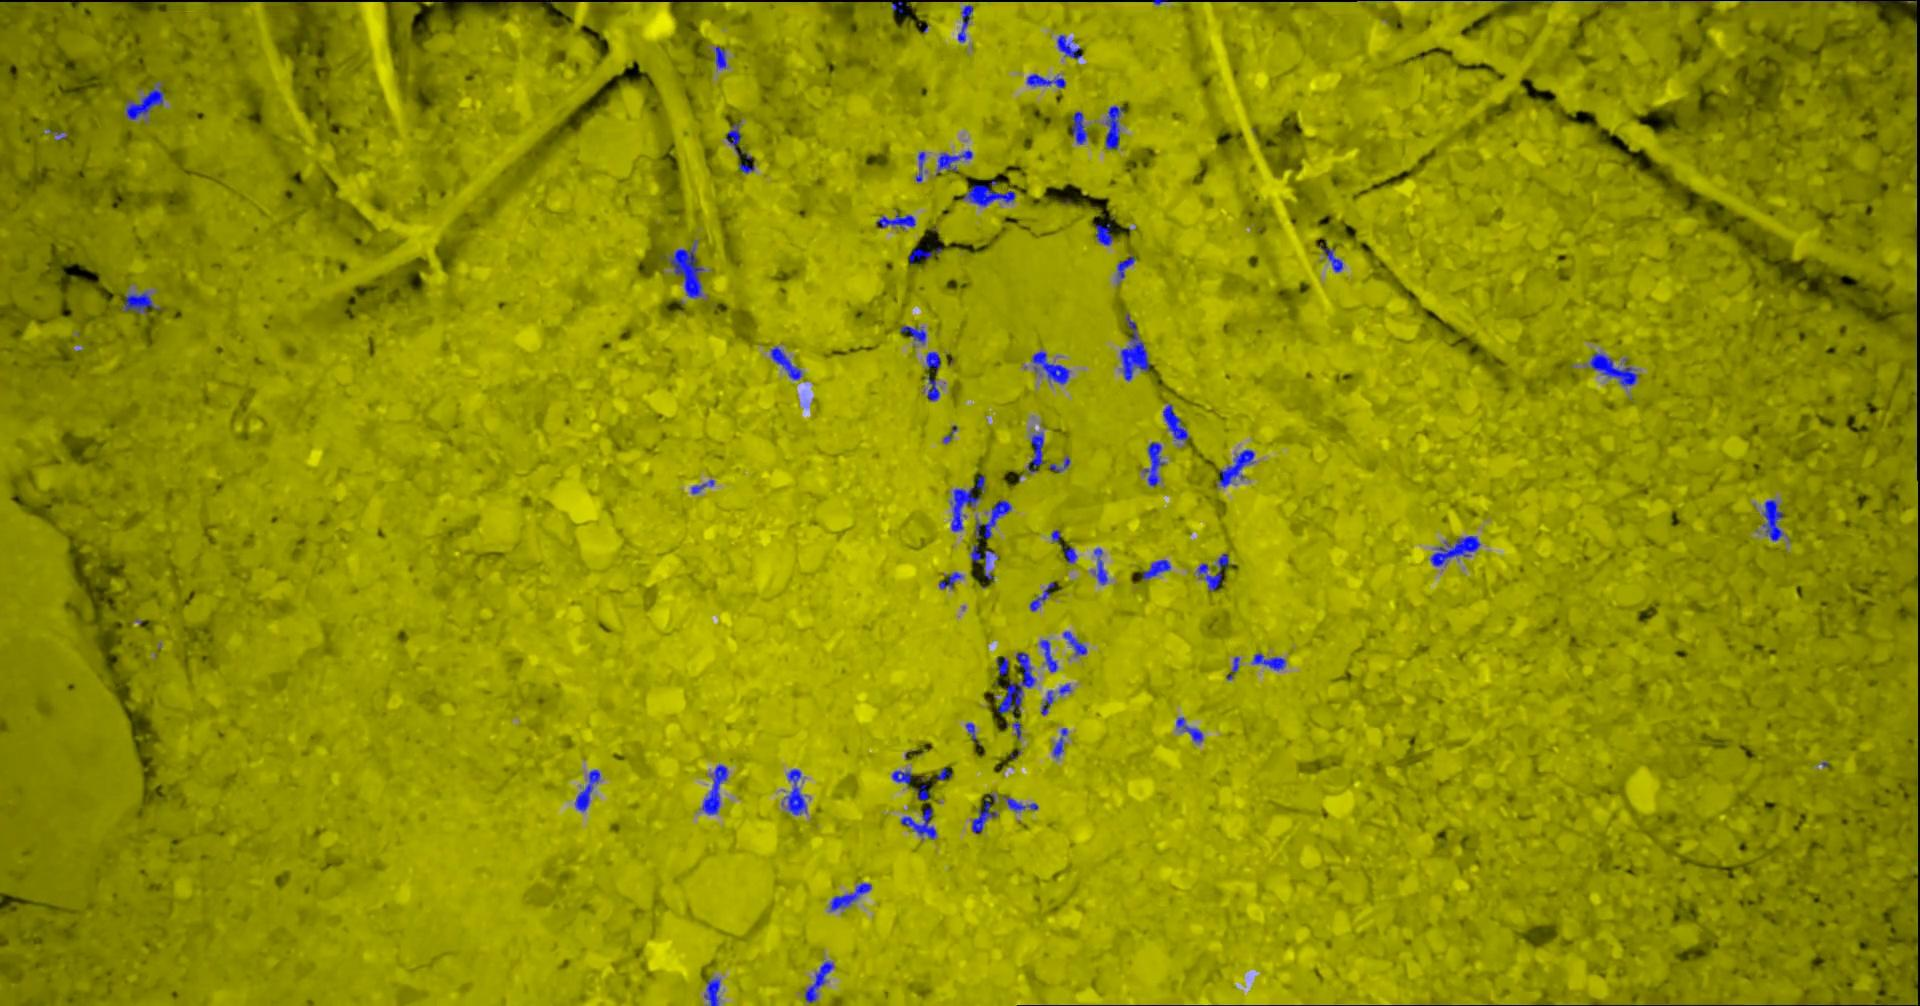ant: (997, 652, 1035, 713), (1120, 312, 1149, 380), (667, 244, 703, 297), (950, 474, 984, 531), (1589, 351, 1637, 385), (1429, 535, 1479, 567), (1217, 448, 1255, 486), (974, 500, 1011, 539), (701, 763, 728, 814), (963, 180, 1015, 206), (124, 86, 163, 119), (1031, 351, 1069, 384), (829, 882, 871, 911), (804, 960, 833, 1002), (900, 807, 936, 840), (781, 768, 806, 814), (1197, 553, 1228, 589), (574, 768, 599, 810), (770, 345, 801, 379), (1162, 403, 1189, 441), (1142, 441, 1163, 486), (971, 793, 996, 833), (935, 150, 971, 174), (970, 544, 994, 579), (1763, 499, 1783, 540), (1105, 105, 1124, 149), (1029, 580, 1054, 610), (1176, 716, 1203, 742), (1319, 243, 1342, 271), (1027, 431, 1043, 471), (725, 123, 743, 158), (1251, 652, 1285, 669), (876, 213, 916, 229), (1057, 34, 1081, 58), (1062, 631, 1086, 655), (124, 292, 152, 312), (1142, 559, 1170, 579), (1039, 639, 1057, 671), (1026, 72, 1065, 86), (1070, 111, 1087, 144), (957, 4, 971, 42), (1093, 547, 1107, 584), (1051, 727, 1067, 757), (908, 246, 941, 260), (1004, 796, 1037, 810), (900, 325, 924, 343), (703, 977, 719, 1005), (1116, 257, 1135, 278), (938, 572, 963, 588), (923, 375, 938, 400), (1095, 224, 1112, 245), (1048, 456, 1069, 473), (924, 351, 940, 373), (1225, 655, 1239, 680), (691, 479, 714, 493), (913, 782, 931, 800), (1040, 690, 1053, 714), (891, 770, 910, 784), (916, 151, 924, 180), (996, 655, 1008, 674), (715, 46, 725, 69), (965, 721, 977, 741), (1063, 545, 1076, 561), (891, 0, 907, 13), (936, 767, 951, 780), (738, 163, 753, 173)
